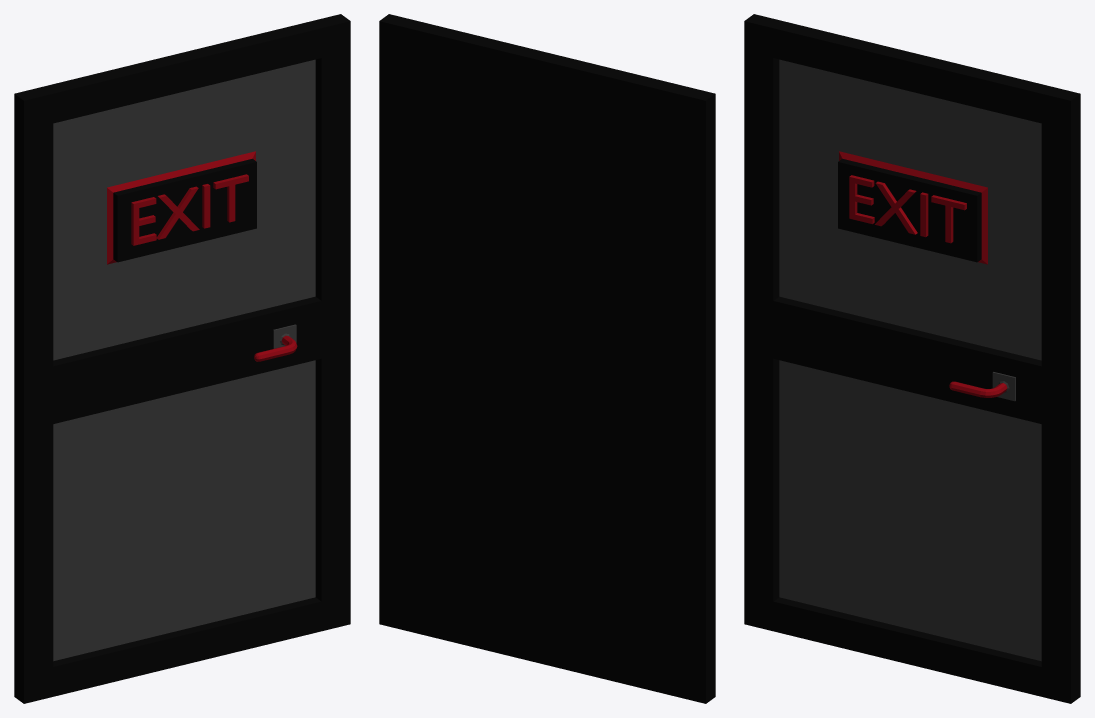
File: Door_Exit.fbx
3 views of the same model, side by side, from view 1: azimuth 30°, elevation 25°; view 2: azimuth 150°, elevation 25°; view 3: azimuth 330°, elevation 25° (orthographic).
Visible parts, largest first — view 1: Door_Exit; view 2: Door_Exit; view 3: Door_Exit.
Boxes of the visible parts, x1,y1,x2,y2 form: Door_Exit: [14, 14, 350, 703]; Door_Exit: [379, 14, 715, 703]; Door_Exit: [744, 14, 1080, 703].
Size of the model in its own units: 8895 by 15692 by 1162.
